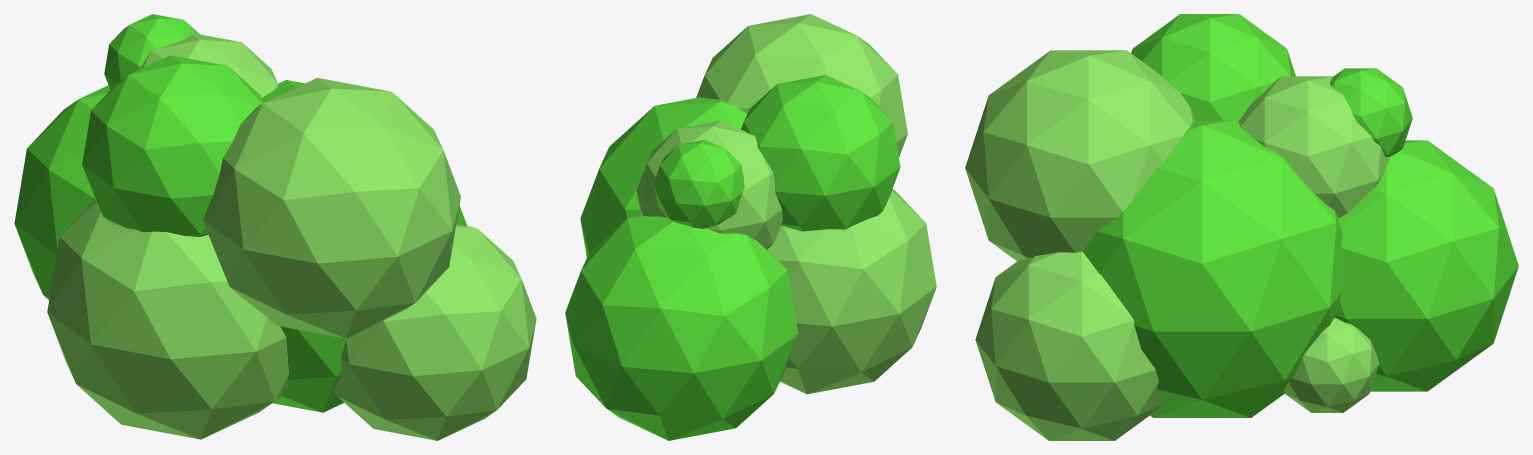
Rendered from Georgebush_2.fbx.
The picture shows the model from 3 angles, left to right: view 1: azimuth 30°, elevation 25°; view 2: azimuth 150°, elevation 25°; view 3: azimuth 270°, elevation 25°; orthographic projection. The views are drawn at different scales.
Parts seen in each view (by area): view 1: Icosphere.008; view 2: Icosphere.008; view 3: Icosphere.008.
Boxes of the visible parts, <box> form: Icosphere.008: <box>14,14,536,440</box>; Icosphere.008: <box>565,14,936,440</box>; Icosphere.008: <box>965,14,1518,440</box>.
Size of the model in its own units: 264 by 238 by 351.
